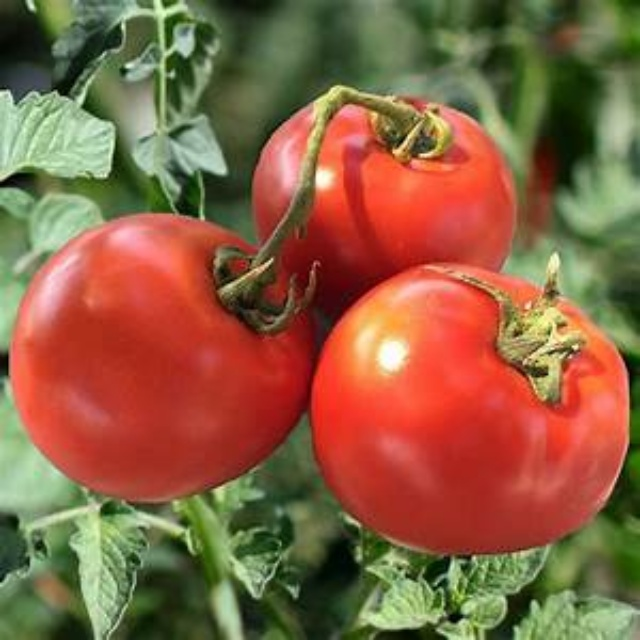tomato: (315, 264, 632, 553), (17, 210, 323, 508), (256, 86, 518, 316)
